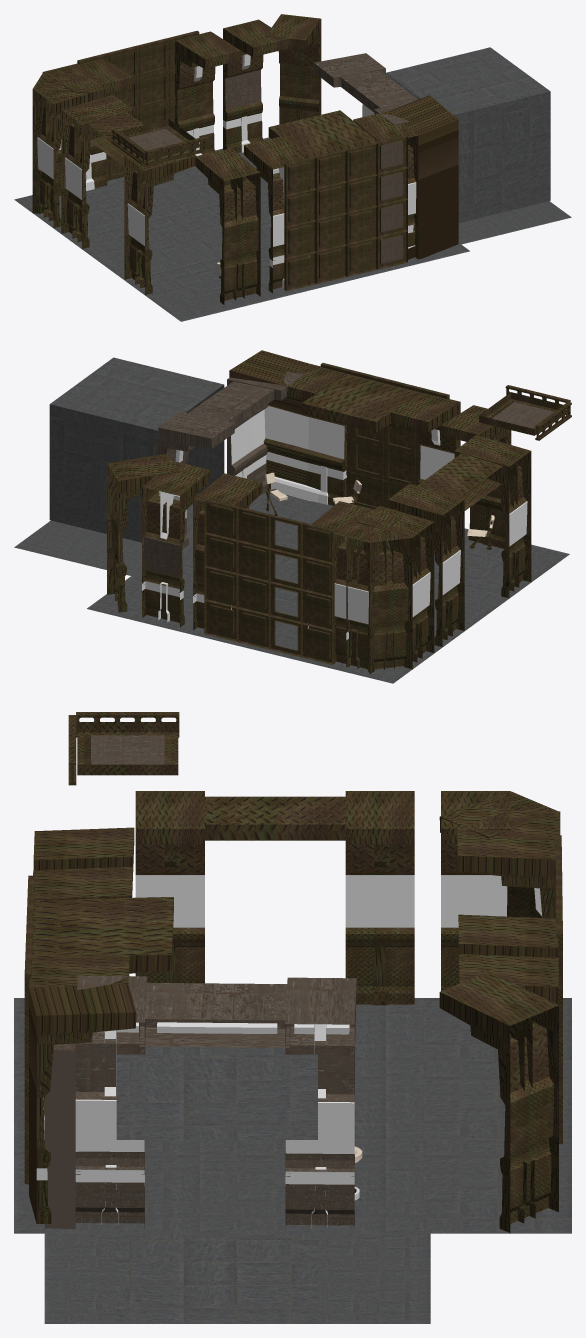
3 views of the same model, one above another, from view 1: azimuth 30°, elevation 25°; view 2: azimuth 150°, elevation 25°; view 3: azimuth 270°, elevation 25° (orthographic). The views are drawn at different scales.
Visible parts, largest first — view 1: Plane.003, Wall.Bar.Back.Unfurnished.001, Wall.Internal.014, Wall.Internal.012, Wall.Internal.017, Wall.Bar.Back.Unfurnished.002, Wall.Internal.016, Wall.Internal.002, Wall.Internal.009, Wall.Internal.001, Wall.Internal.003, Wall.Internal.013 (+10 smaller); view 2: Plane.003, Wall.Bar.Back.Unfurnished.002, Wall.Internal.014, Wall.Internal.017, Wall.Bar.Back.Unfurnished.001, Wall.Internal.005, Wall.Internal.002, Wall.Internal.001, Wall.Internal.004, Wall.Internal.003, Wall.Bar.Back.Overhang, Wall.Internal.009 (+9 smaller); view 3: Plane.003, Wall.Internal.010, Wall.Internal.009, Wall.Internal.002, Wall.Internal.011, Wall.Internal.014, Wall.Internal.001, Wall.Door.Overhang.001, Wall.Bar.Back.Overhang, Ceiling.Panels, Wall.Internal.003, Wall.Door.Overhang (+9 smaller).
Boxes of the visible parts, x1,y1,x2,y2 form: Plane.003: (14, 47, 571, 321); Wall.Bar.Back.Unfurnished.001: (284, 135, 407, 291); Wall.Internal.014: (353, 95, 458, 266); Wall.Internal.012: (195, 148, 260, 304); Wall.Internal.017: (223, 19, 288, 152); Wall.Bar.Back.Unfurnished.002: (77, 30, 199, 180); Wall.Internal.016: (175, 31, 240, 155); Wall.Internal.002: (61, 95, 133, 248); Wall.Internal.009: (265, 14, 321, 124); Wall.Internal.001: (124, 150, 196, 294); Wall.Internal.003: (33, 74, 105, 227); Wall.Internal.013: (244, 136, 309, 293); Plane.003: (14, 357, 569, 683); Wall.Bar.Back.Unfurnished.002: (204, 499, 334, 664); Wall.Internal.014: (229, 350, 346, 505); Wall.Internal.017: (142, 461, 211, 627); Wall.Bar.Back.Unfurnished.001: (320, 363, 449, 509); Wall.Internal.005: (332, 508, 401, 674); Wall.Internal.002: (388, 483, 464, 646); Wall.Internal.001: (454, 435, 531, 598); Wall.Internal.004: (353, 509, 412, 673); Wall.Internal.003: (357, 505, 434, 668); Wall.Bar.Back.Overhang: (301, 374, 421, 431); Wall.Internal.009: (107, 453, 179, 612); Plane.003: (14, 998, 571, 1323); Wall.Internal.010: (45, 975, 146, 1229); Wall.Internal.009: (439, 971, 558, 1232); Wall.Internal.002: (345, 791, 414, 1005); Wall.Internal.011: (285, 977, 356, 1228); Wall.Internal.014: (29, 955, 136, 1223); Wall.Internal.001: (135, 791, 204, 983); Wall.Door.Overhang.001: (139, 982, 290, 1047); Wall.Bar.Back.Overhang: (32, 897, 173, 973); Ceiling.Panels: (68, 712, 179, 785); Wall.Internal.003: (441, 791, 510, 991); Wall.Door.Overhang: (205, 796, 345, 840).
Bounding box in the file's own units: 30.47 × 11.22 × 20.97.
Materials: 27 (12 with a texture image).
